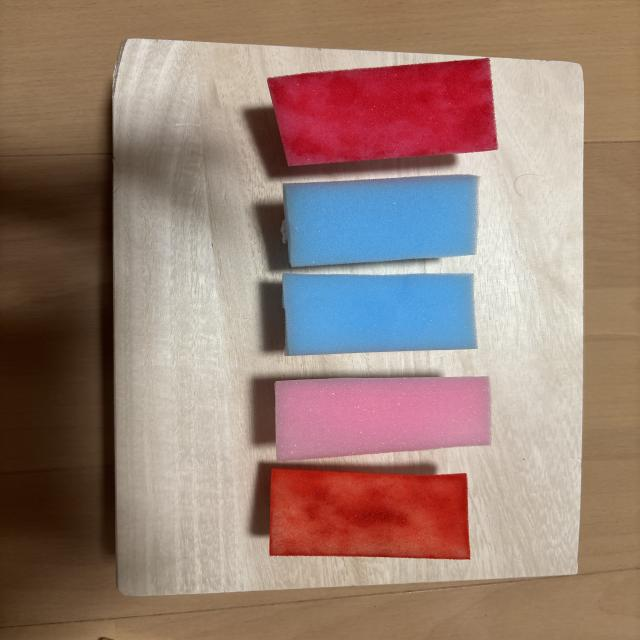ika: (283, 175, 479, 267), (283, 274, 477, 355)
maguro: (268, 58, 498, 165)
salmon: (269, 468, 470, 559)
tai: (275, 377, 491, 461)
